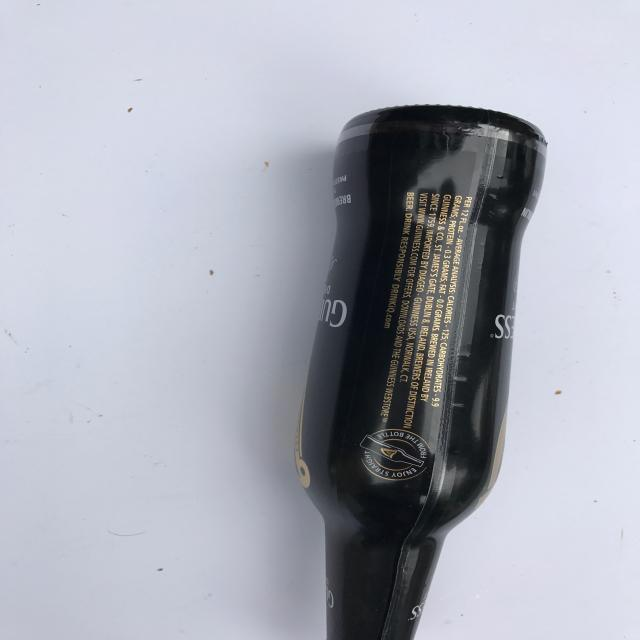Glass: (290, 97, 552, 640)
